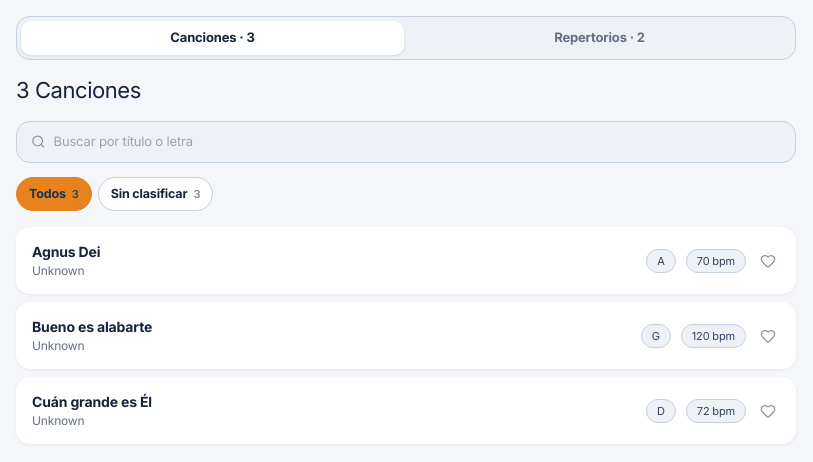
Scenario: Repertorios › un músico abre un repertorio y ensaya sus canciones en orden
This screenshot has width=813, height=462.
Later steps or results of the test are not shown.
Click the tab "Repertorios · 2". click: (600, 38)
box: x1=408 y1=21 x2=791 y2=55
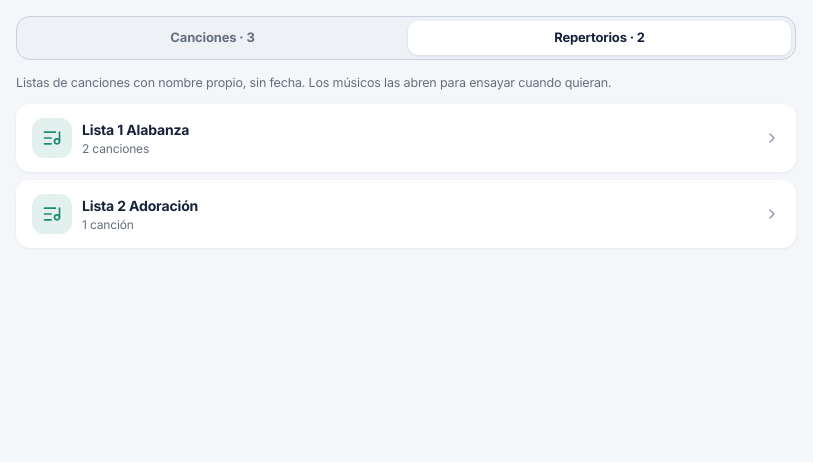
expect the text "Lista 1 Alabanza" is shown: met, box x1=82 y1=121 x2=189 y2=138
expect the text "1 canción" is shown: met, box x1=82 y1=217 x2=134 y2=232
